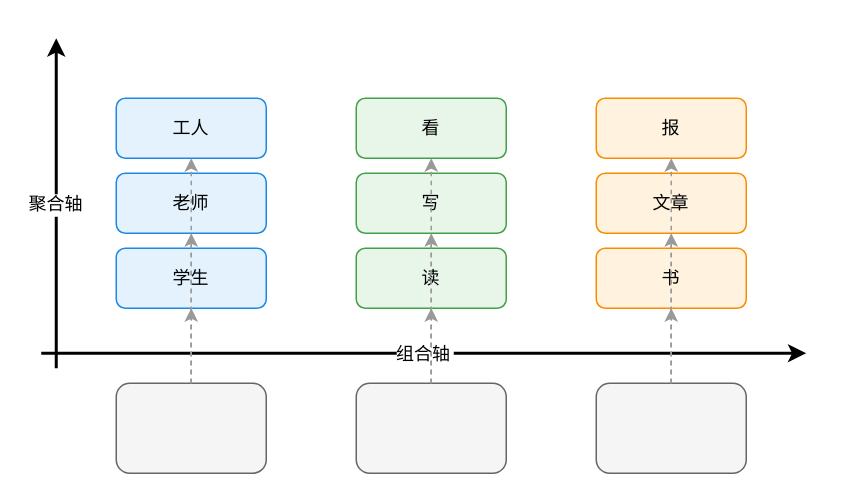
Image size: 845x500. Some labels were removed from this diagram. Each missing label, with the box of its shape:
主语槽: (115, 382, 266, 473)
宾语槽: (595, 382, 746, 473)
谓语槽: (355, 382, 506, 473)
